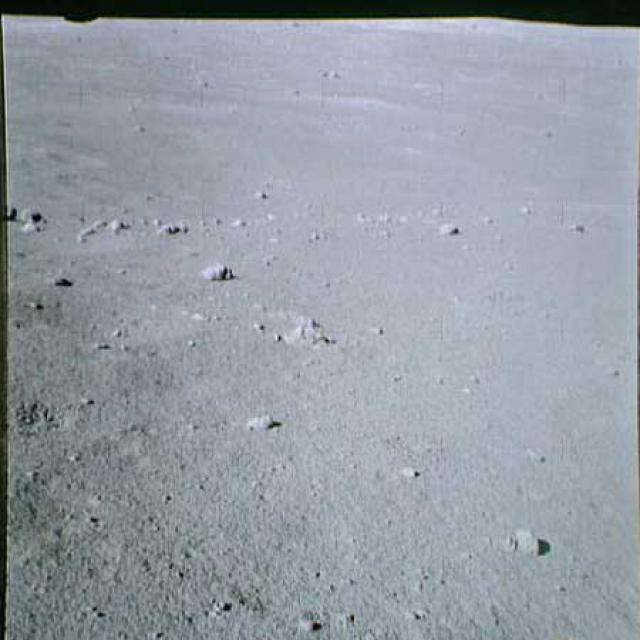rock: (271, 309, 327, 353), (502, 521, 550, 557), (6, 195, 44, 230), (153, 216, 195, 246), (201, 258, 238, 282), (431, 221, 462, 237)
